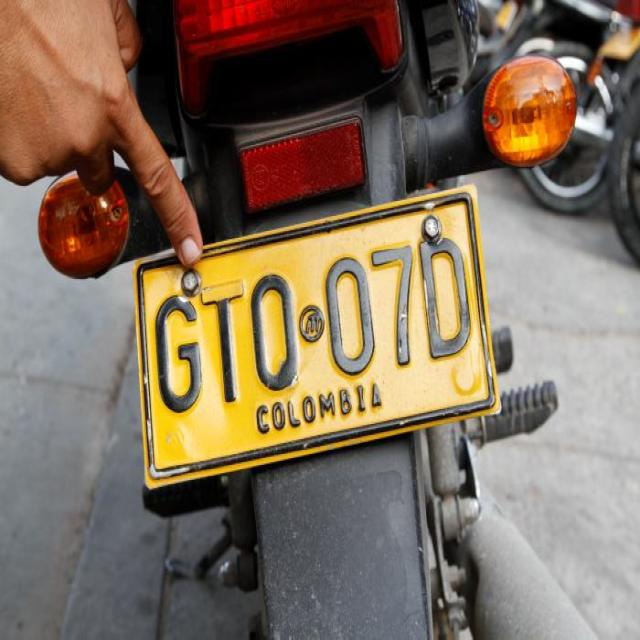placa_moto: (136, 179, 499, 496)
